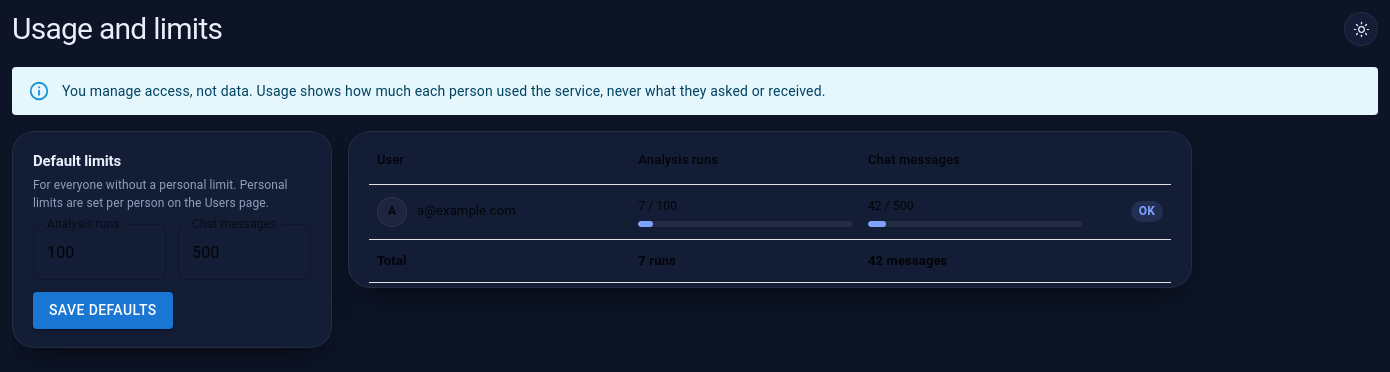
AdminUsagePage › shows the default limits and saves new ones
The width and height of the screenshot is (1390, 372).
Replace the text in the number field labelled "Analysis runs" with "20" at (100,252), box [33,224,166,280]
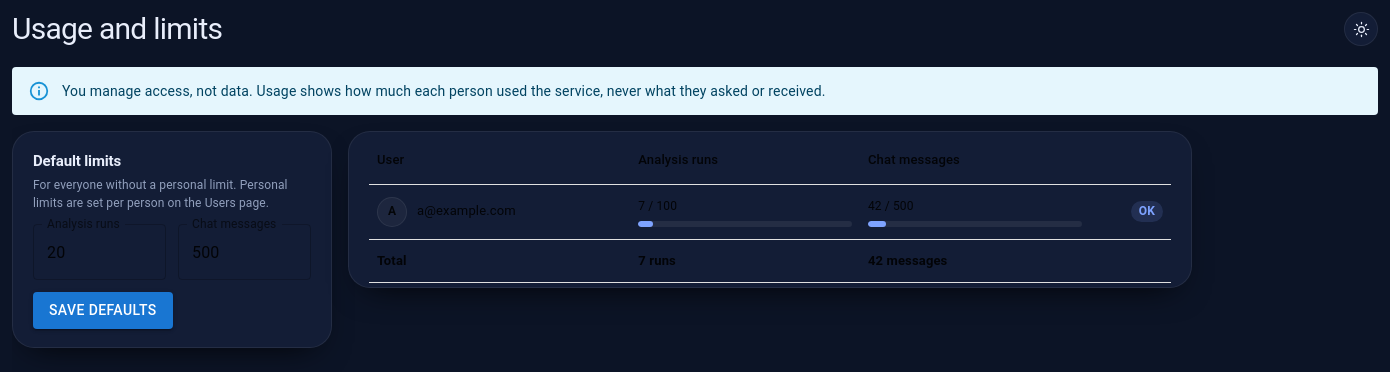
Click the button "Save defaults" at (103,310), box [33,292,173,328]
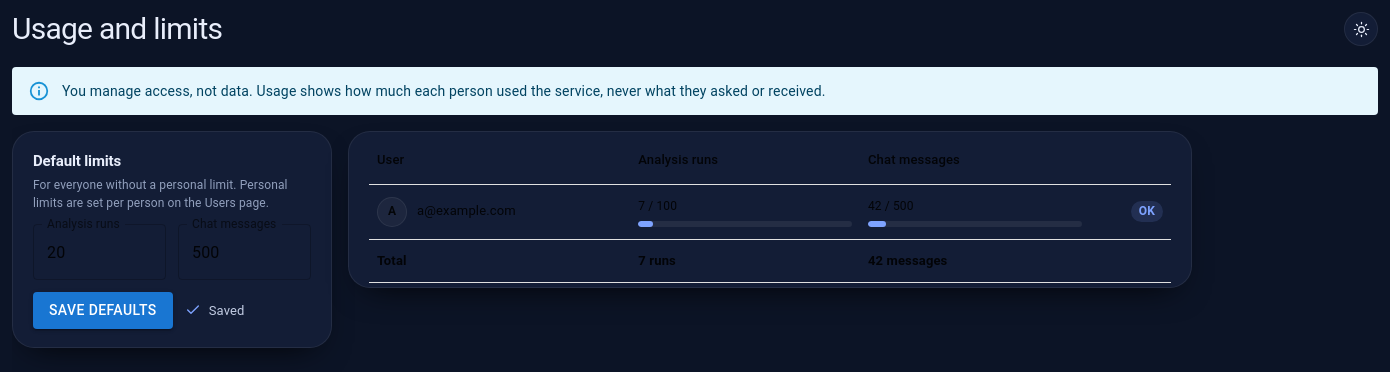
Check: the text "Saved" is shown, box [185,300,244,320]
